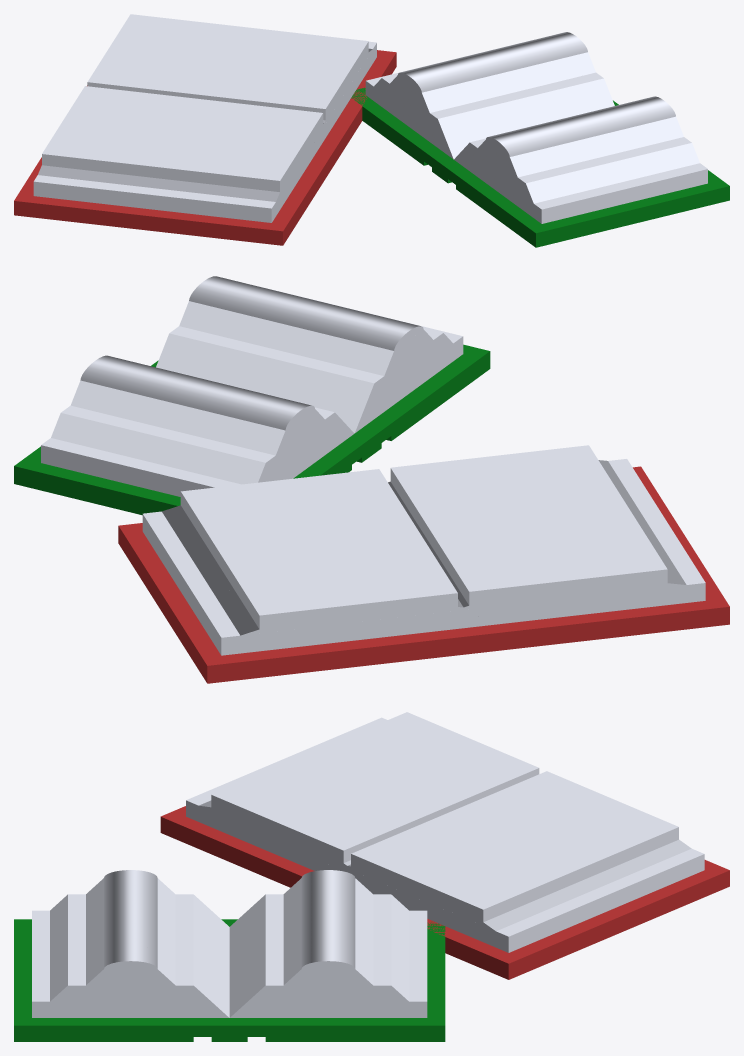
The model's file is OpenBookPile.obj.
The picture shows the model from 3 angles, top to bottom: view 1: azimuth 30°, elevation 25°; view 2: azimuth 150°, elevation 25°; view 3: azimuth 270°, elevation 25°; orthographic projection. The views are drawn at different scales.
Visible parts, largest first — view 1: block, wedge, cylinder_half; view 2: block, wedge, cylinder_half; view 3: block, wedge, cylinder_half.
Boxes of the visible parts, x1,y1,x2,y2 form: block: (14, 14, 729, 247); wedge: (38, 48, 699, 203); cylinder_half: (398, 32, 675, 156); block: (14, 286, 729, 683); wedge: (51, 301, 686, 635); cylinder_half: (80, 276, 423, 430); block: (14, 712, 729, 1041); wedge: (50, 800, 691, 1017); cylinder_half: (104, 870, 355, 969).
Size of the model in its own units: 0.7531 by 0.085 by 0.7531.
